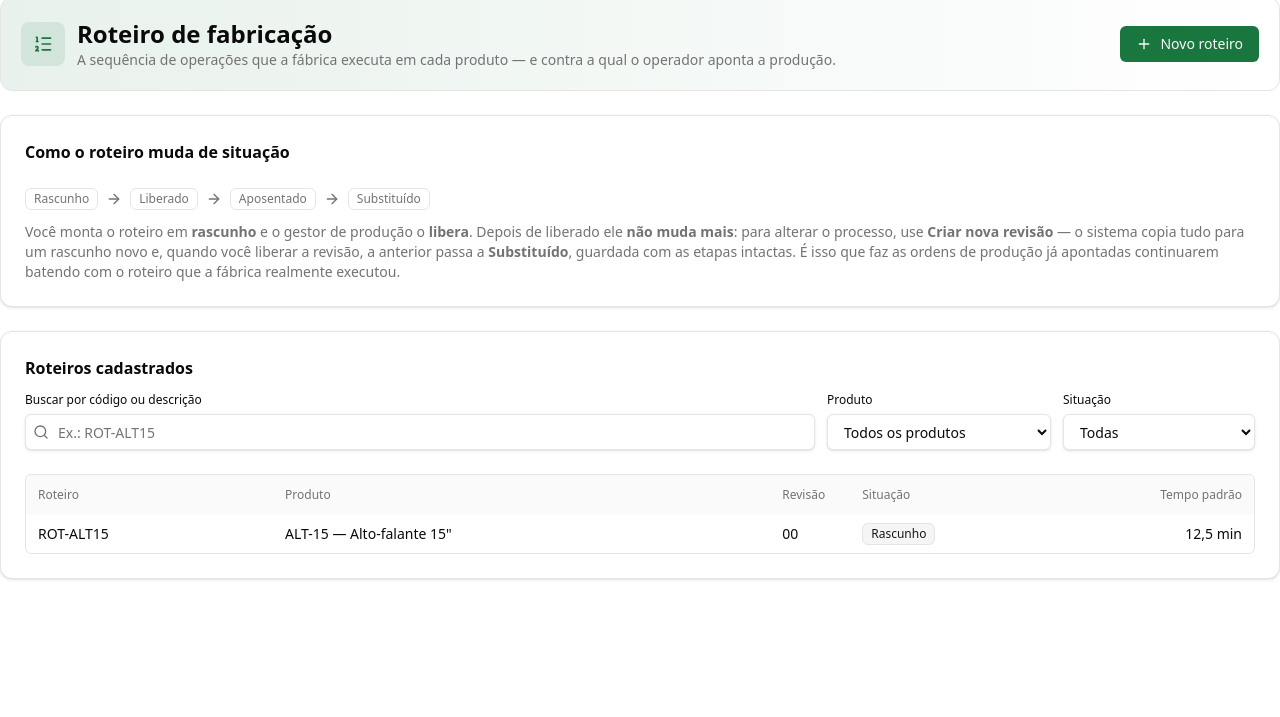
ProductionRoutesPage — ordem das operações › bloqueia o salvamento e aponta a linha quando o código da operação se repete
Click the text "ROT-ALT15": point(73, 534) [26,515,273,553]
(page scrolled)
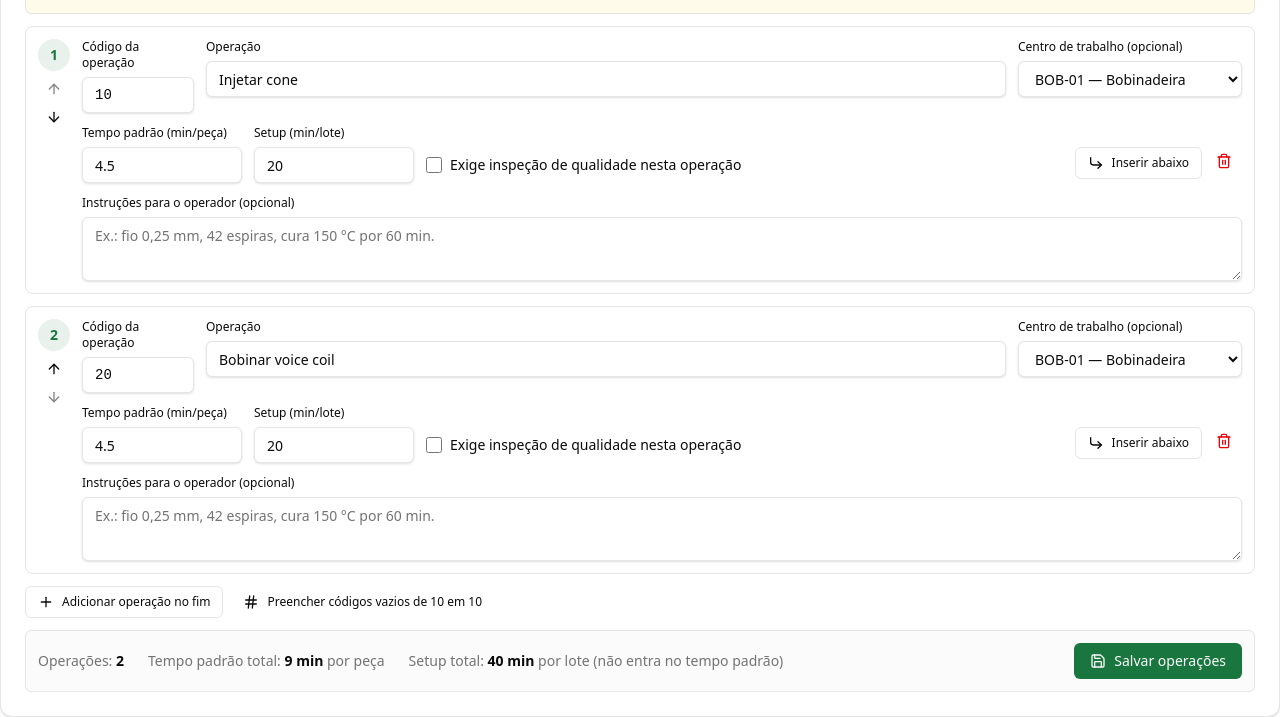
Expected: the button named "operação 1 para cima" is shown, [40,75,68,103]
Replace the text in the 2nd field labelled "Código da operação" with "10": point(138, 375) [82,357,194,393]
(page scrolled)
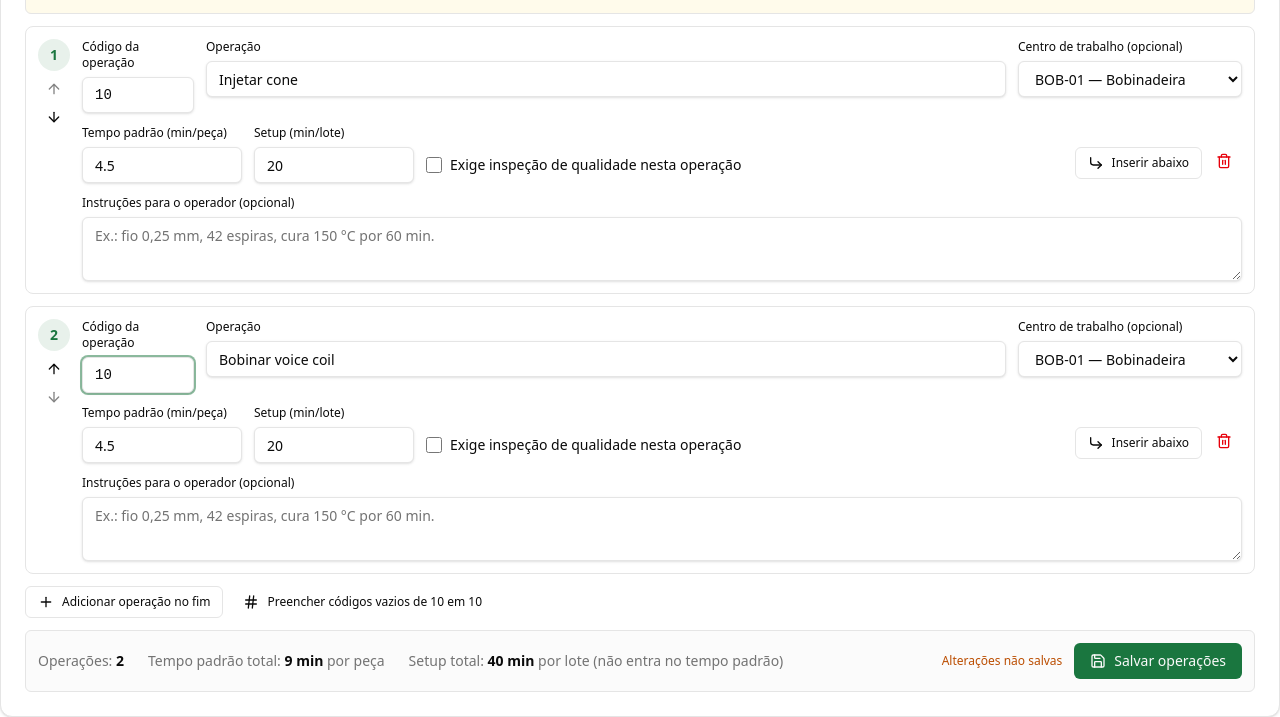
Click the button "Salvar operações": point(1158, 661) [1074,643,1242,679]
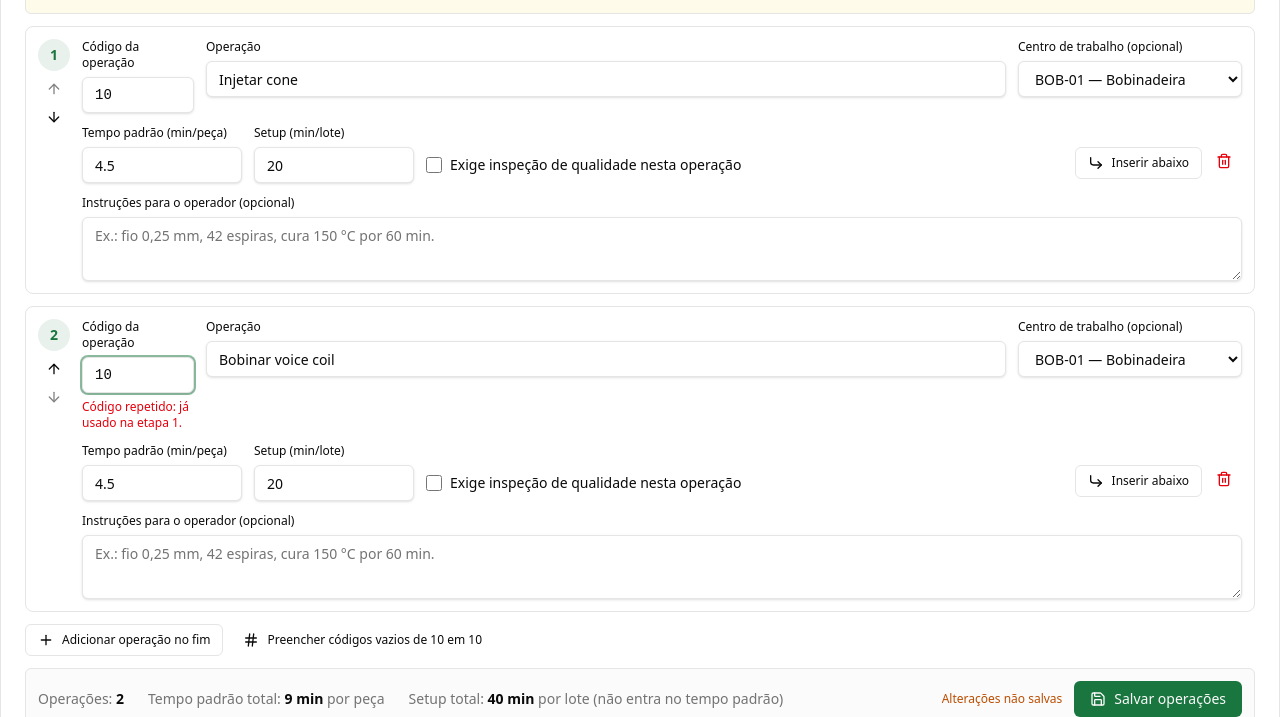
Expected: the text "Código repetido: já usado na etapa 1." is shown, [82,399,194,431]
